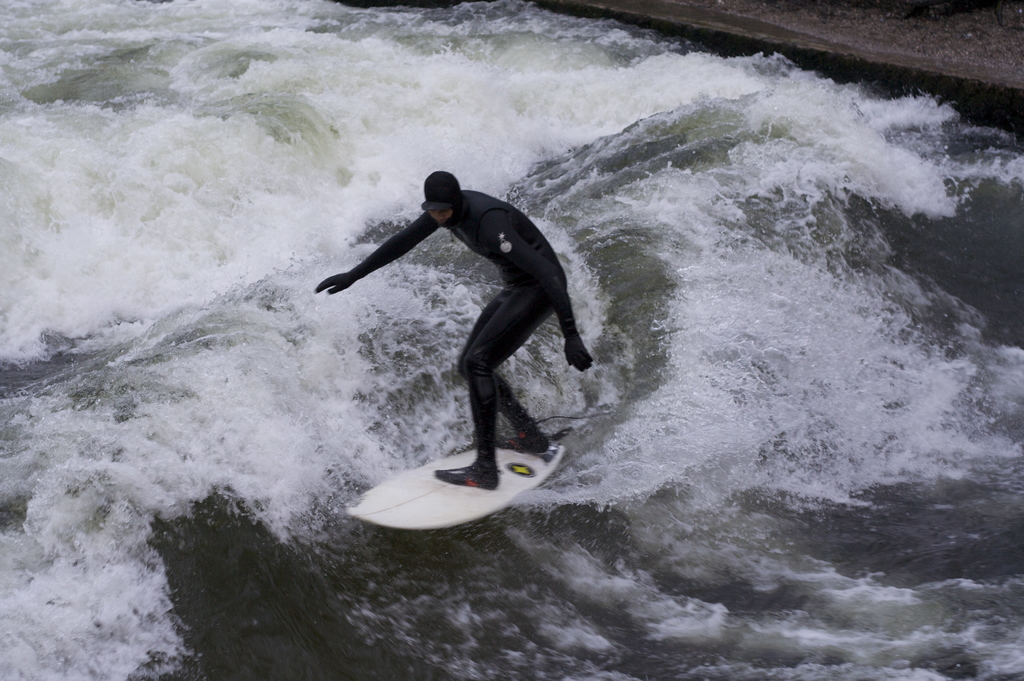Person: (314, 169, 593, 489)
